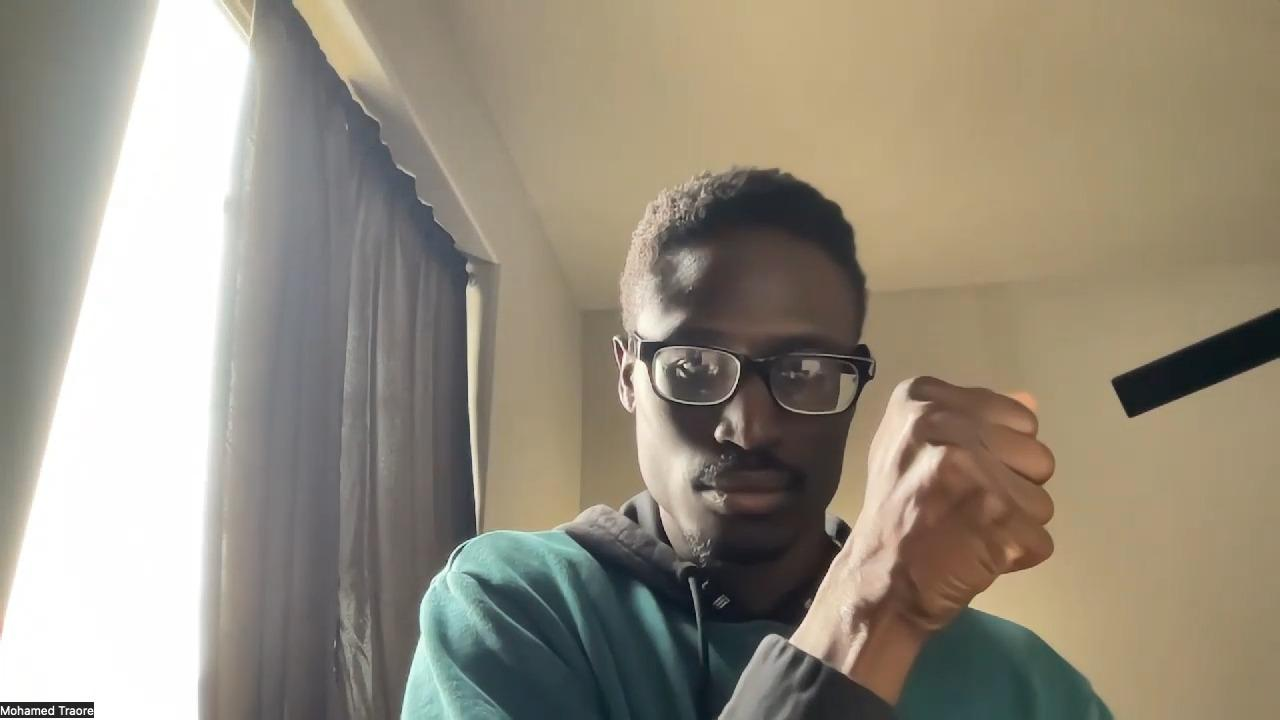Rock: (860, 373, 1058, 626)
